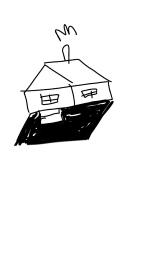closed_window: (38, 93, 61, 109), (79, 86, 100, 101)
roof: (15, 55, 115, 95)
shadow: (14, 98, 123, 150)
small_house: (1, 1, 161, 260)
smoking_chimney: (50, 21, 89, 64)
wall: (69, 77, 116, 111)
